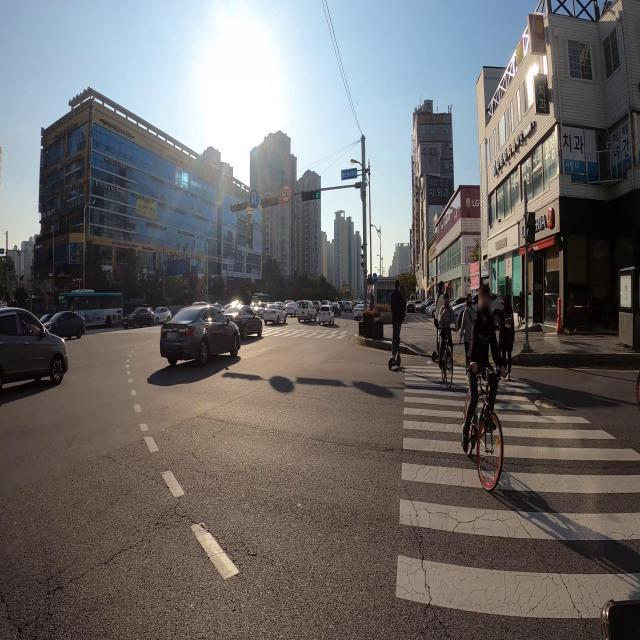crosswalk: (394, 357, 640, 640), (98, 323, 359, 340)
